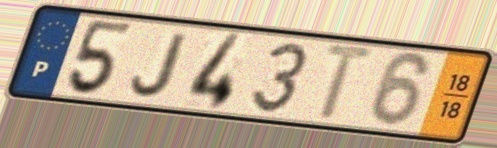3: (245, 40, 313, 116)
4: (184, 30, 245, 114)
5: (63, 16, 135, 97)
6: (366, 49, 437, 132)
J: (128, 29, 193, 100)
T: (315, 41, 381, 123)
